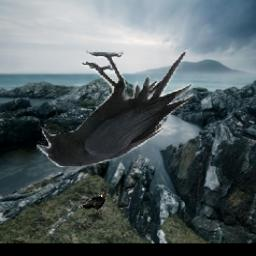Crow: (37, 49, 194, 167), (79, 192, 109, 214)
